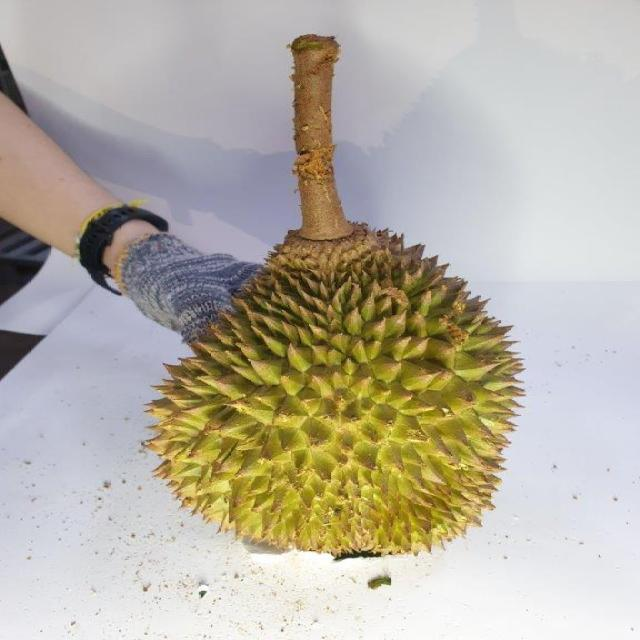mature: (152, 227, 526, 557)
